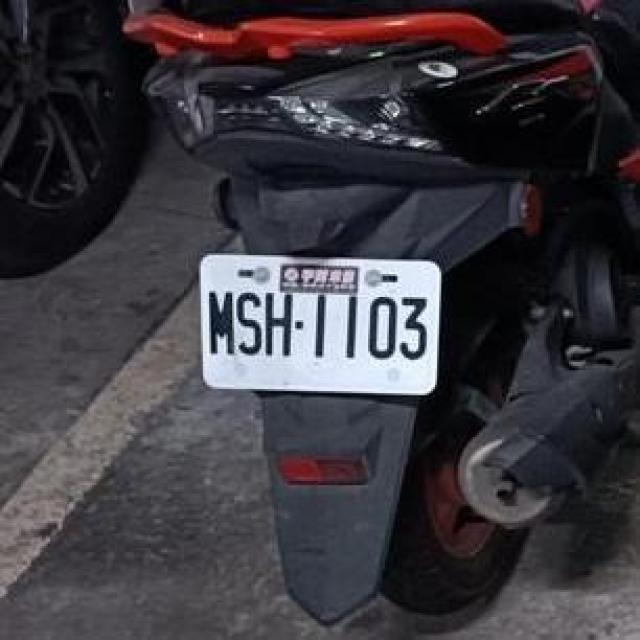W: (192, 249, 446, 397)
